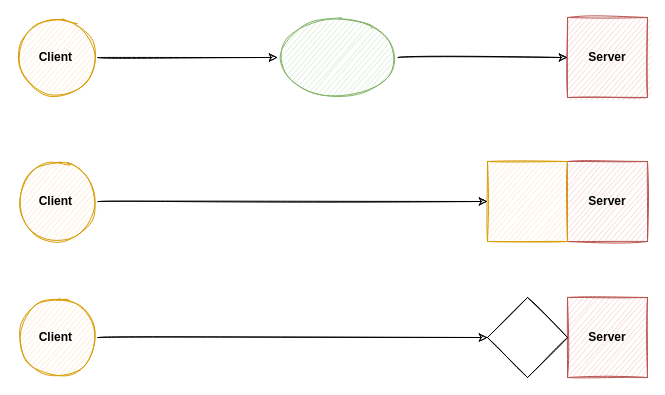
Some shapes in this 665 by 395 pixel diagram are drawn without their labels. Each missing label, with the centre of its shape:
Adapter: (x=527, y=337)
Facade: (x=527, y=201)
Proxy: (x=337, y=57)
